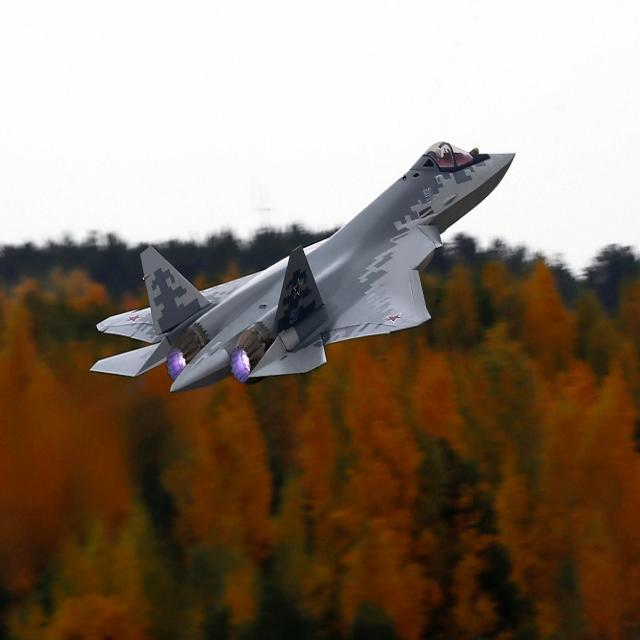MIL_Plane: (88, 140, 516, 395)
